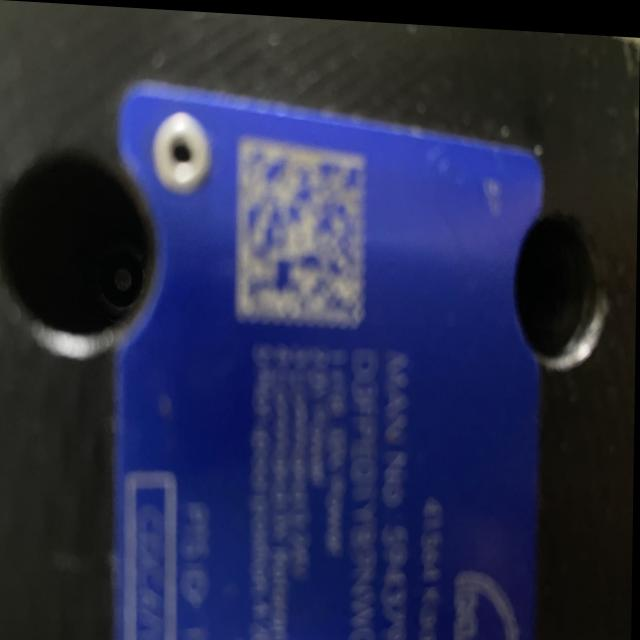dmc: (236, 132, 366, 324)
